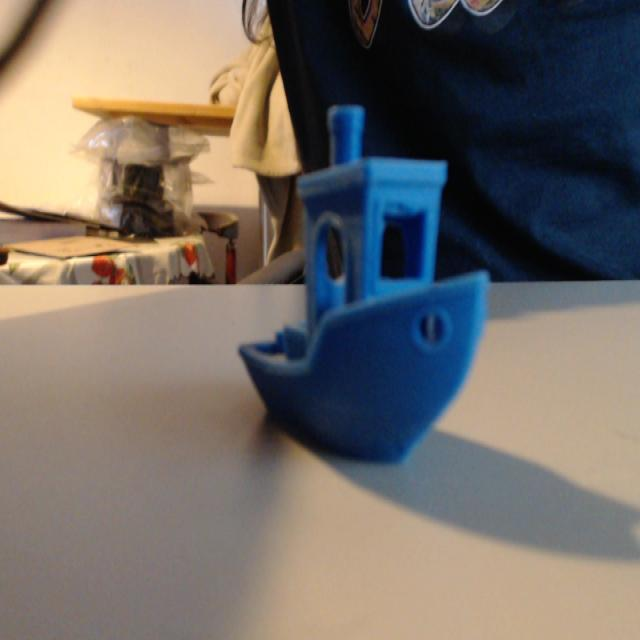benchy: (236, 101, 491, 467)
